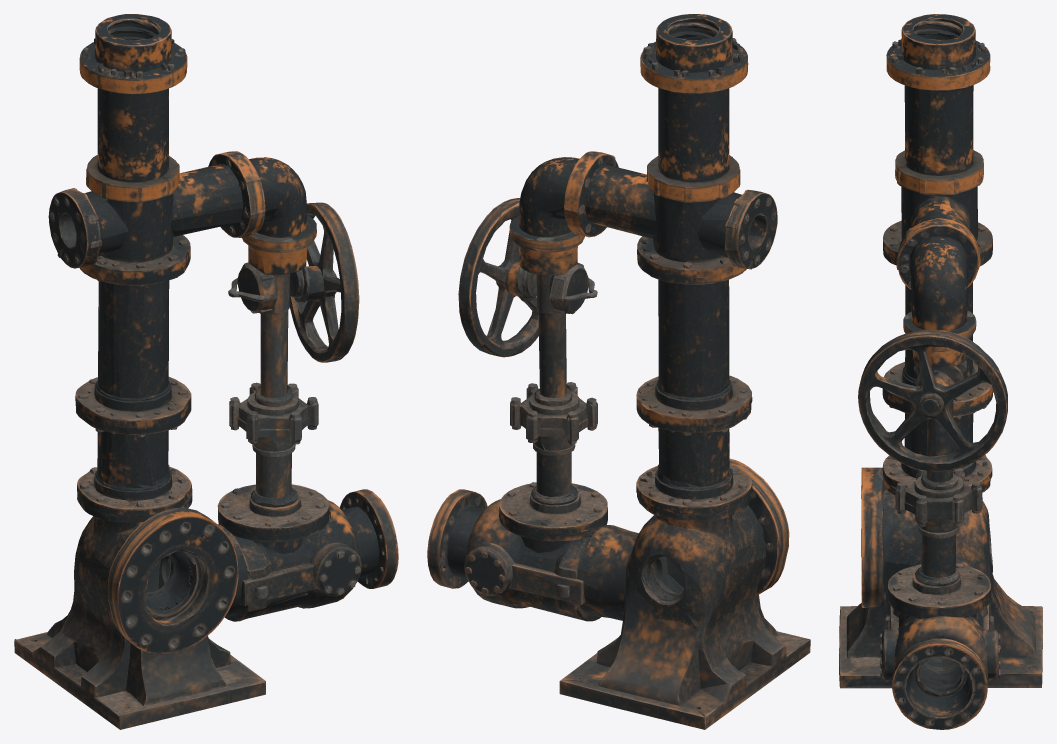
File: fg_pipe_stand_valve.glb
3 views of the same model, side by side, from view 1: azimuth 30°, elevation 25°; view 2: azimuth 150°, elevation 25°; view 3: azimuth 270°, elevation 25° (orthographic). The views are drawn at different scales.
Size of the model in its own units: 0.9506 by 1.9 by 0.5654.
1 material, 1 textured.
